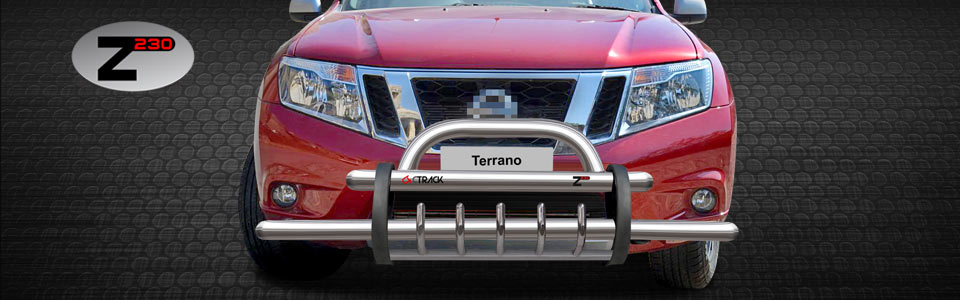number_plate: (436, 141, 564, 180)
